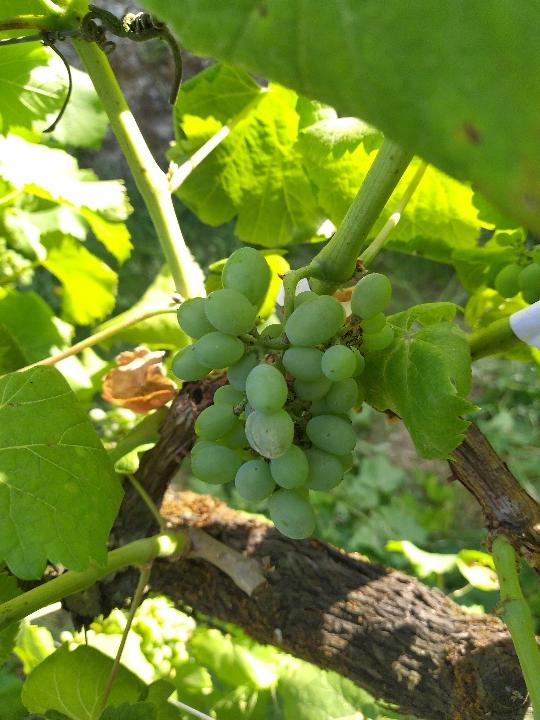grape: (162, 245, 402, 546)
